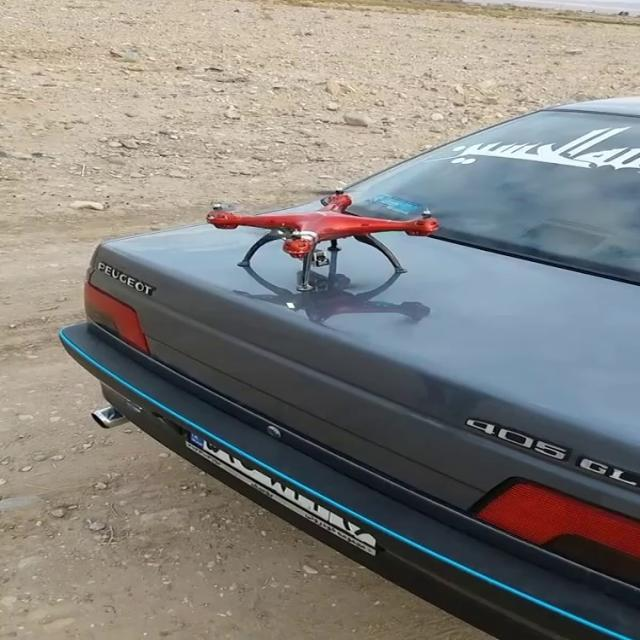drone: (198, 182, 460, 295)
